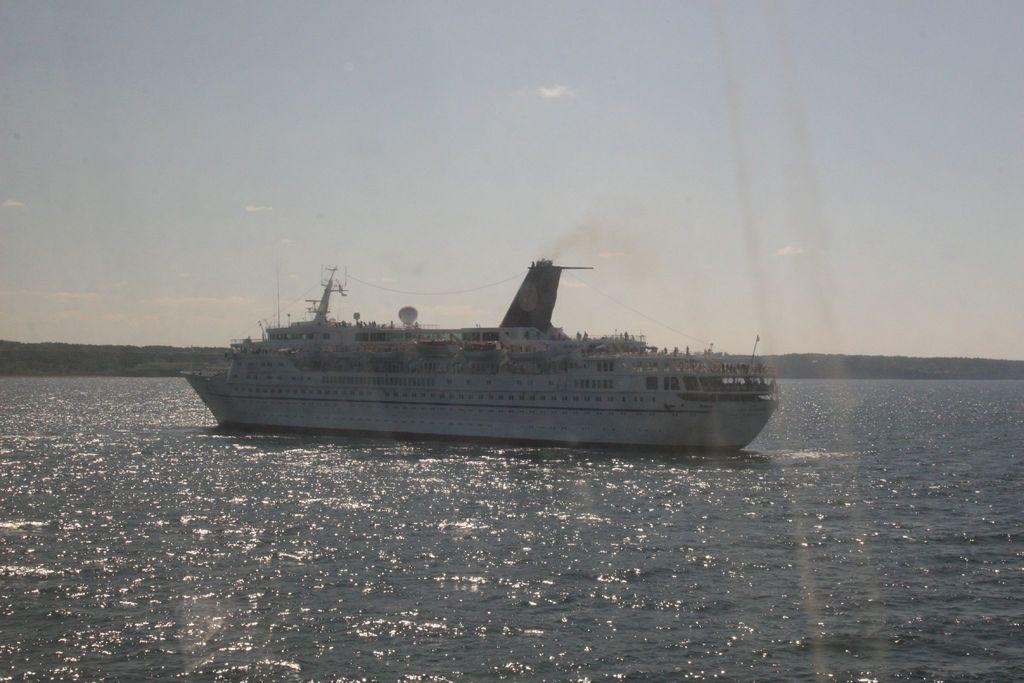PassengerShip: (176, 246, 782, 460)
